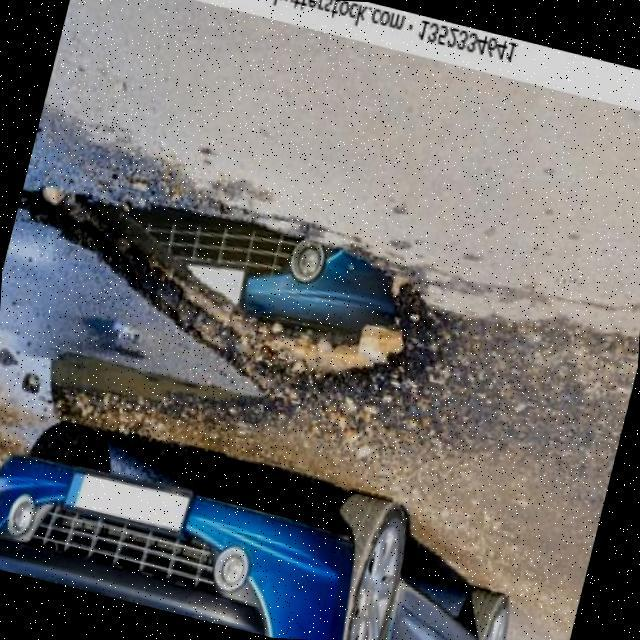Pothole: (21, 186, 427, 401)
